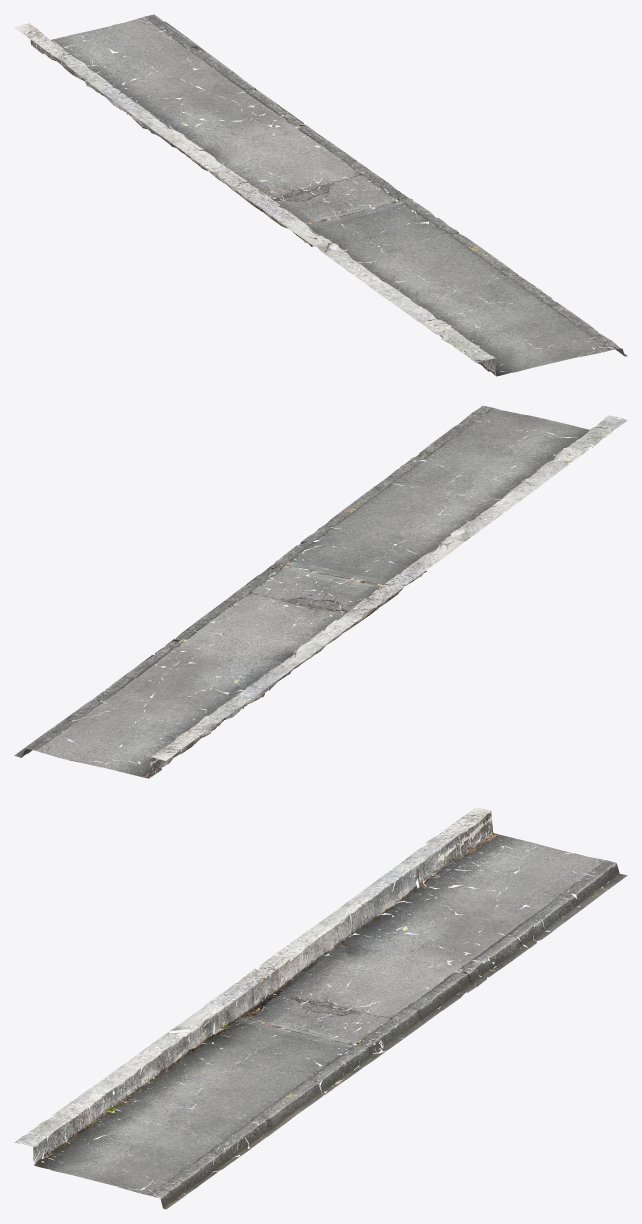
File: sidewalk_8m_long_hq.glb
3 renders of one model, top to bottom at view 1: azimuth 30°, elevation 25°; view 2: azimuth 150°, elevation 25°; view 3: azimuth 330°, elevation 25°, orthographic.
Visible parts, largest first — view 1: sidewalk_8m_long_hq.001; view 2: sidewalk_8m_long_hq.001; view 3: sidewalk_8m_long_hq.001.
Part boxes in pixels (x1,y1,x2,y2): sidewalk_8m_long_hq.001: [14, 14, 627, 376]; sidewalk_8m_long_hq.001: [14, 405, 627, 778]; sidewalk_8m_long_hq.001: [14, 807, 627, 1209].
Bounding box in the file's own units: 1.54 × 0.3619 × 8.12.
1 material, 1 textured.
